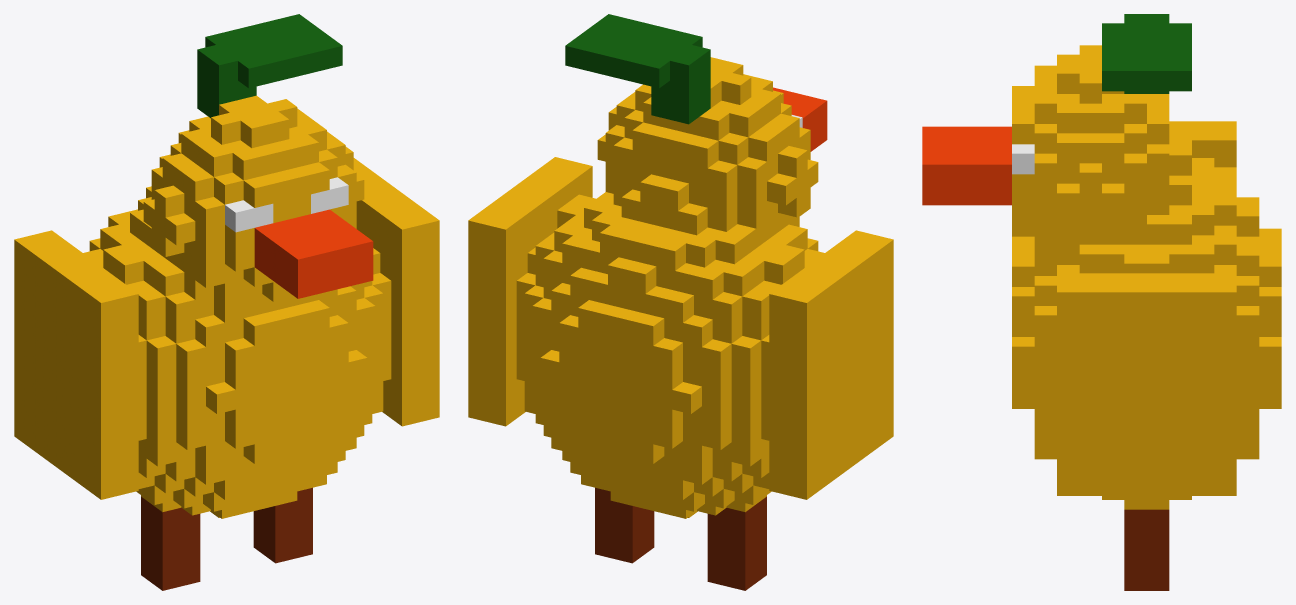
The model's file is perochello_lemonchello.glb.
3 renders of one model, left to right at view 1: azimuth 30°, elevation 25°; view 2: azimuth 150°, elevation 25°; view 3: azimuth 270°, elevation 25°, orthographic. The views are drawn at different scales.
Parts seen in each view (by area): view 1: brainrot; view 2: brainrot; view 3: brainrot.
Part boxes in pixels (bbox=[...]): brainrot: bbox=[14, 14, 439, 590]; brainrot: bbox=[468, 14, 893, 590]; brainrot: bbox=[922, 14, 1281, 590].
Size of the model in its own units: 3.46 by 5 by 3.08.
1 material, 1 textured.
